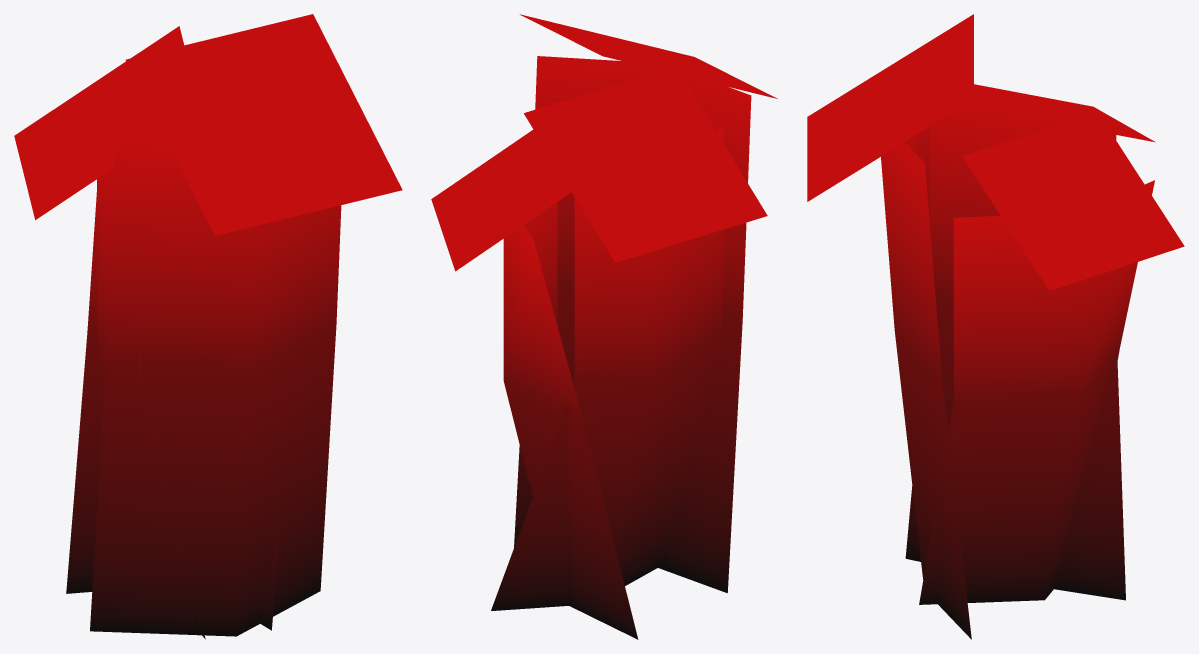
Rendered from SM_Flower_03.fbx.
The picture shows the model from 3 angles, left to right: view 1: azimuth 30°, elevation 25°; view 2: azimuth 150°, elevation 25°; view 3: azimuth 270°, elevation 25°; orthographic projection. The views are drawn at different scales.
Parts seen in each view (by area): view 1: SM_Nature_Flower_03; view 2: SM_Nature_Flower_03; view 3: SM_Nature_Flower_03.
Boxes of the visible parts, x1,y1,x2,y2 form: SM_Nature_Flower_03: [14, 14, 402, 639]; SM_Nature_Flower_03: [431, 14, 777, 639]; SM_Nature_Flower_03: [807, 14, 1184, 639].
Bounding box in the file's own units: 19.52 × 33.25 × 21.15.
